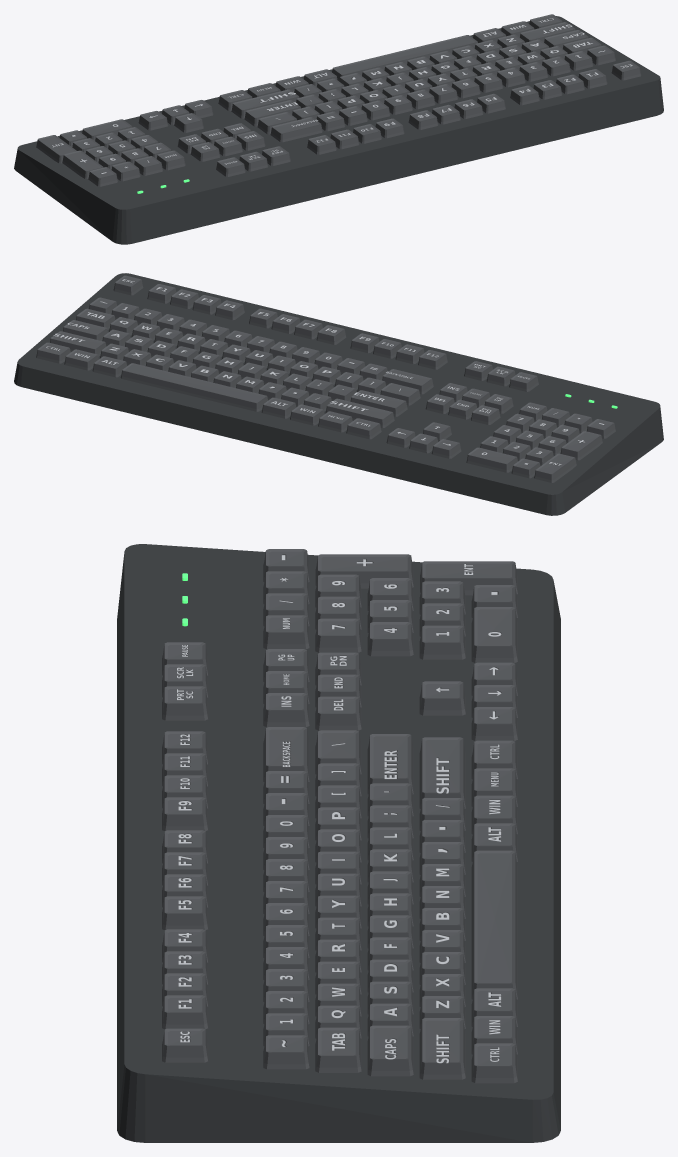
The model's file is Keyboard_corrected.glb.
3 renders of one model, top to bottom at view 1: azimuth 30°, elevation 25°; view 2: azimuth 150°, elevation 25°; view 3: azimuth 270°, elevation 25°, orthographic. The views are drawn at different scales.
Parts seen in each view (by area): view 1: Keyboard_StaticKeys, Keyboard_Body, Key_Enter, Key_Escape; view 2: Keyboard_StaticKeys, Keyboard_Body, Key_Enter, Key_Escape; view 3: Keyboard_StaticKeys, Keyboard_Body, Key_Enter, Key_Escape.
Part boxes in pixels (x1,y1,x2,y2): Keyboard_StaticKeys: (36, 14, 615, 186); Keyboard_Body: (14, 16, 663, 244); Key_Enter: (244, 100, 300, 126); Key_Escape: (611, 60, 641, 80); Keyboard_StaticKeys: (36, 284, 615, 482); Keyboard_Body: (14, 273, 663, 515); Key_Enter: (350, 390, 407, 416); Key_Escape: (113, 275, 143, 295); Keyboard_StaticKeys: (162, 549, 517, 1083); Keyboard_Body: (117, 544, 560, 1142); Key_Enter: (367, 734, 413, 794); Key_Escape: (162, 1028, 208, 1062).
Size of the model in its own units: 0.452 by 0.0347 by 0.158.
Materials: 5 (1 with a texture image).
